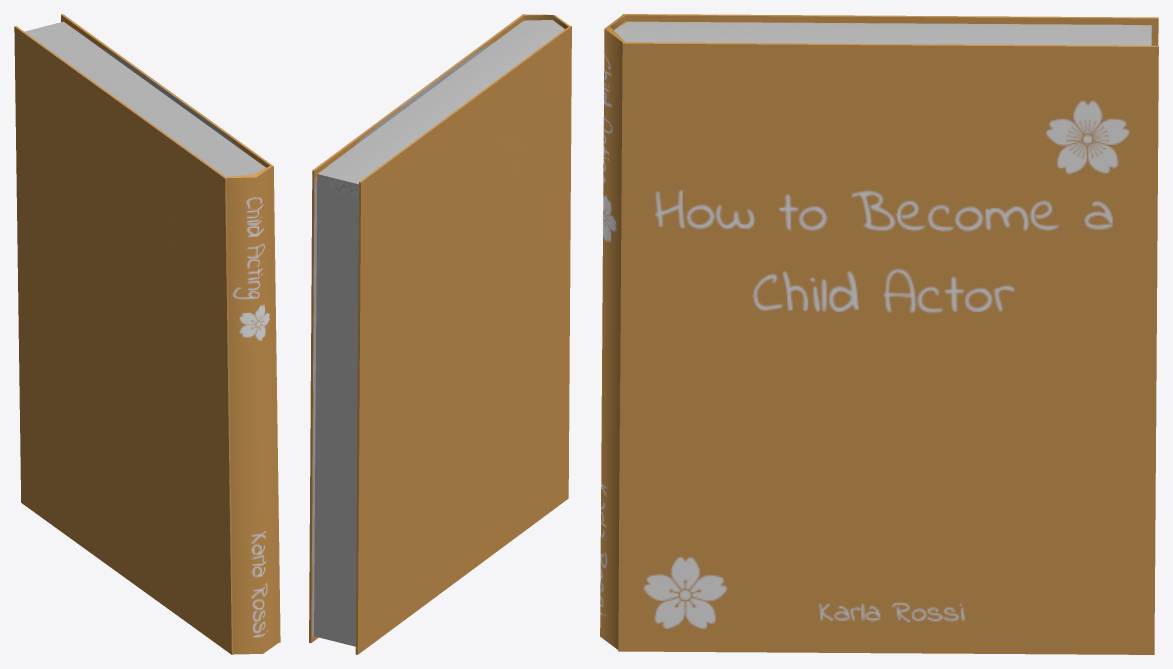
Rendered from BookYellow.fbx.
The picture shows the model from 3 angles, left to right: view 1: azimuth 30°, elevation 25°; view 2: azimuth 150°, elevation 25°; view 3: azimuth 270°, elevation 25°; orthographic projection. The views are drawn at different scales.
Visible parts, largest first — view 1: BookYellow_OBJ; view 2: BookYellow_OBJ; view 3: BookYellow_OBJ.
Boxes of the visible parts, bbox=[...] form: BookYellow_OBJ: bbox=[14, 14, 280, 654]; BookYellow_OBJ: bbox=[309, 14, 571, 654]; BookYellow_OBJ: bbox=[600, 14, 1158, 654].
Bounding box in the file's own units: 4.5 × 38.09 × 31.6.
Materials: 1 (1 with a texture image).
